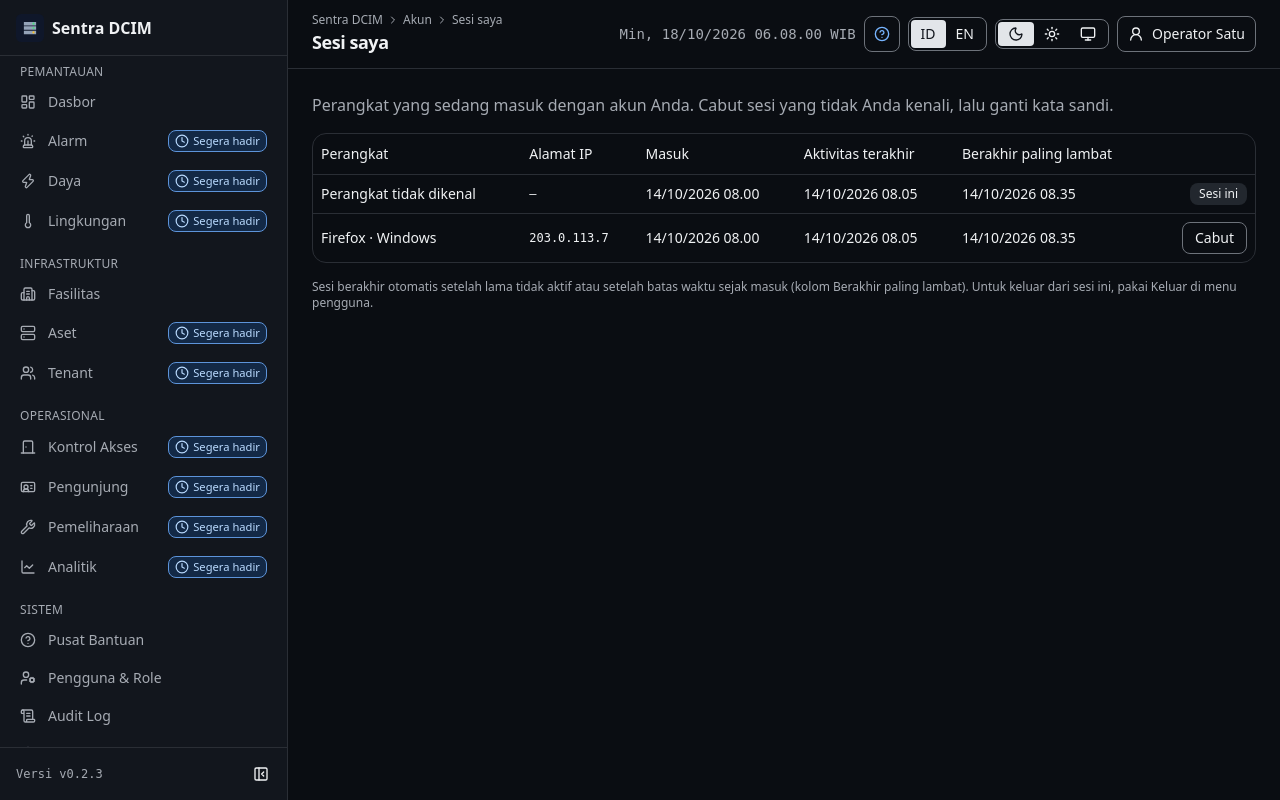
it: auth › lists own sessions and revokes another one
Expected: the heading reads "Sesi saya", [312,30,389,54]
Expected: the number of rows with test id "session-row" is 2, [313,174,1255,213]; [313,213,1255,262]
Click the button "Cabut". click: (1214, 238)
box: [1182,222,1247,254]
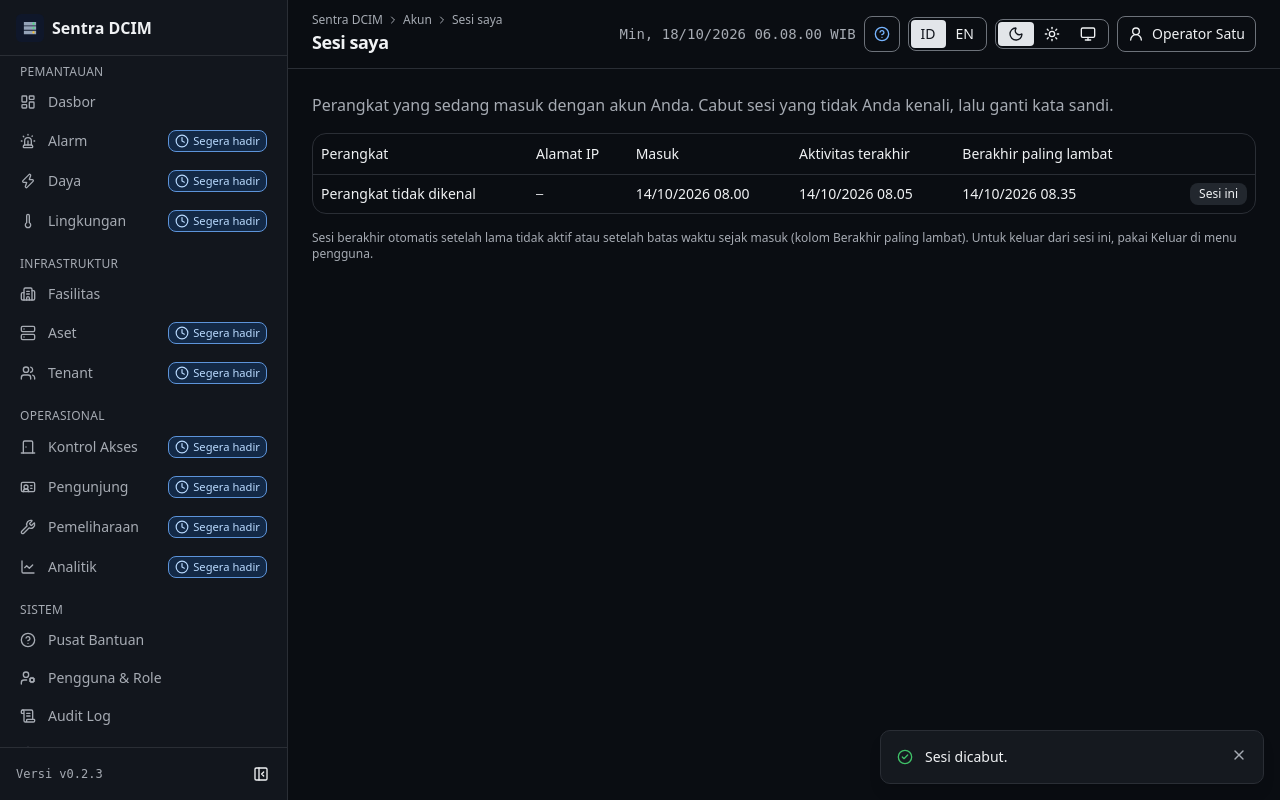
Expected: the navigation bar named "Lokasi halaman" shows "Akun", [403,11,432,28]
Expected: the number of rows with test id "session-row" is 1, [313,174,1255,212]
